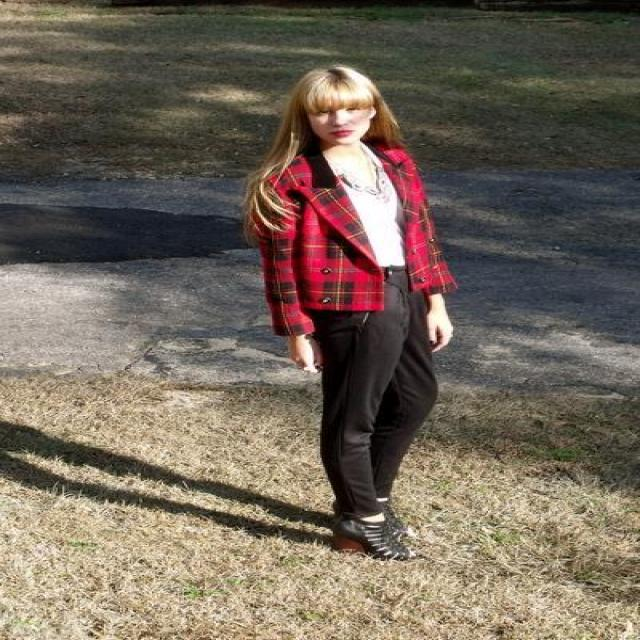jacket: (240, 148, 454, 338)
pants: (304, 269, 445, 524)
shirt: (339, 168, 402, 266)
shoe: (326, 525, 391, 560)
